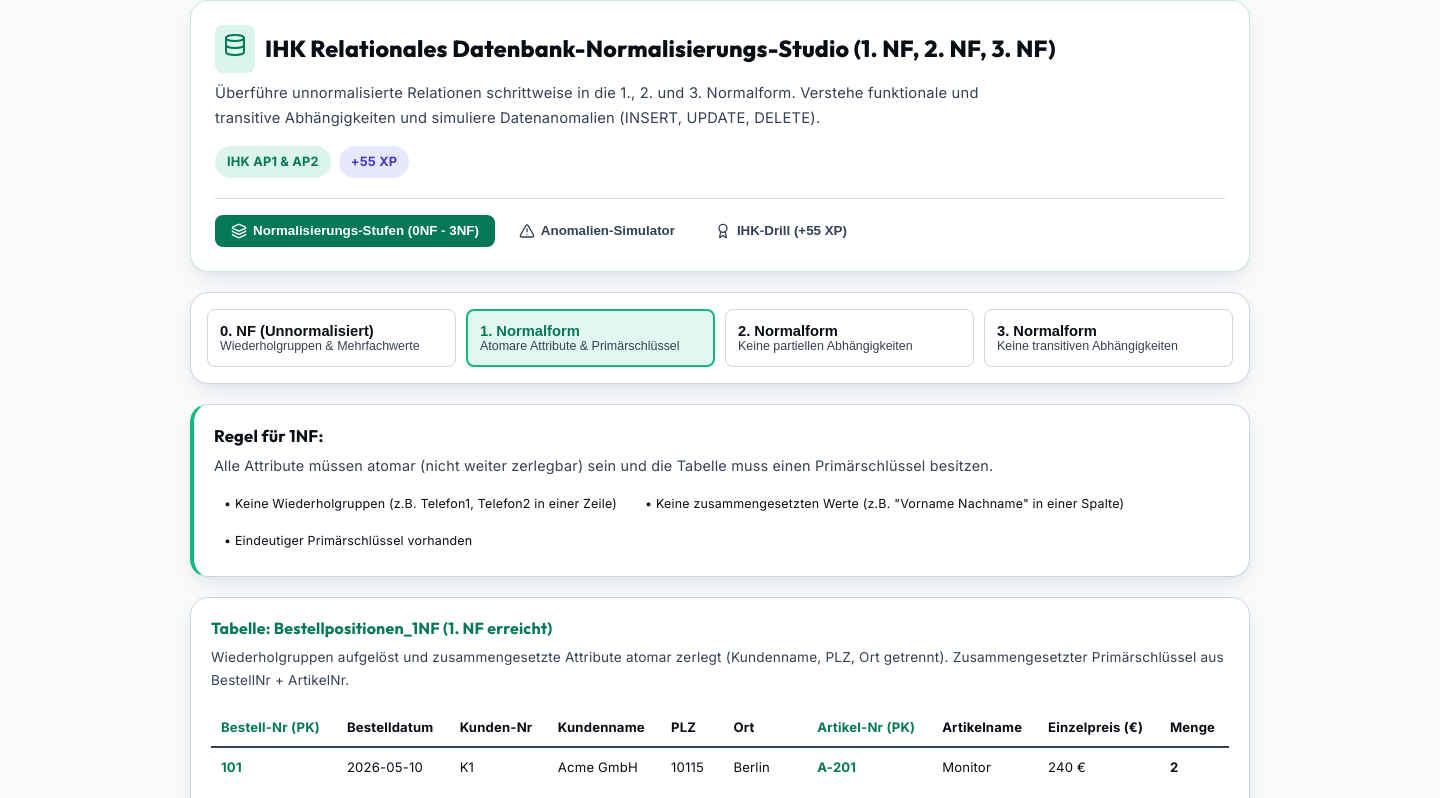
Test case: DatabaseNormalizationLab › wechselt zum Anomalien-Simulator
Click the button "Anomalien-Simulator" at (597, 231), box [503,215,691,247]
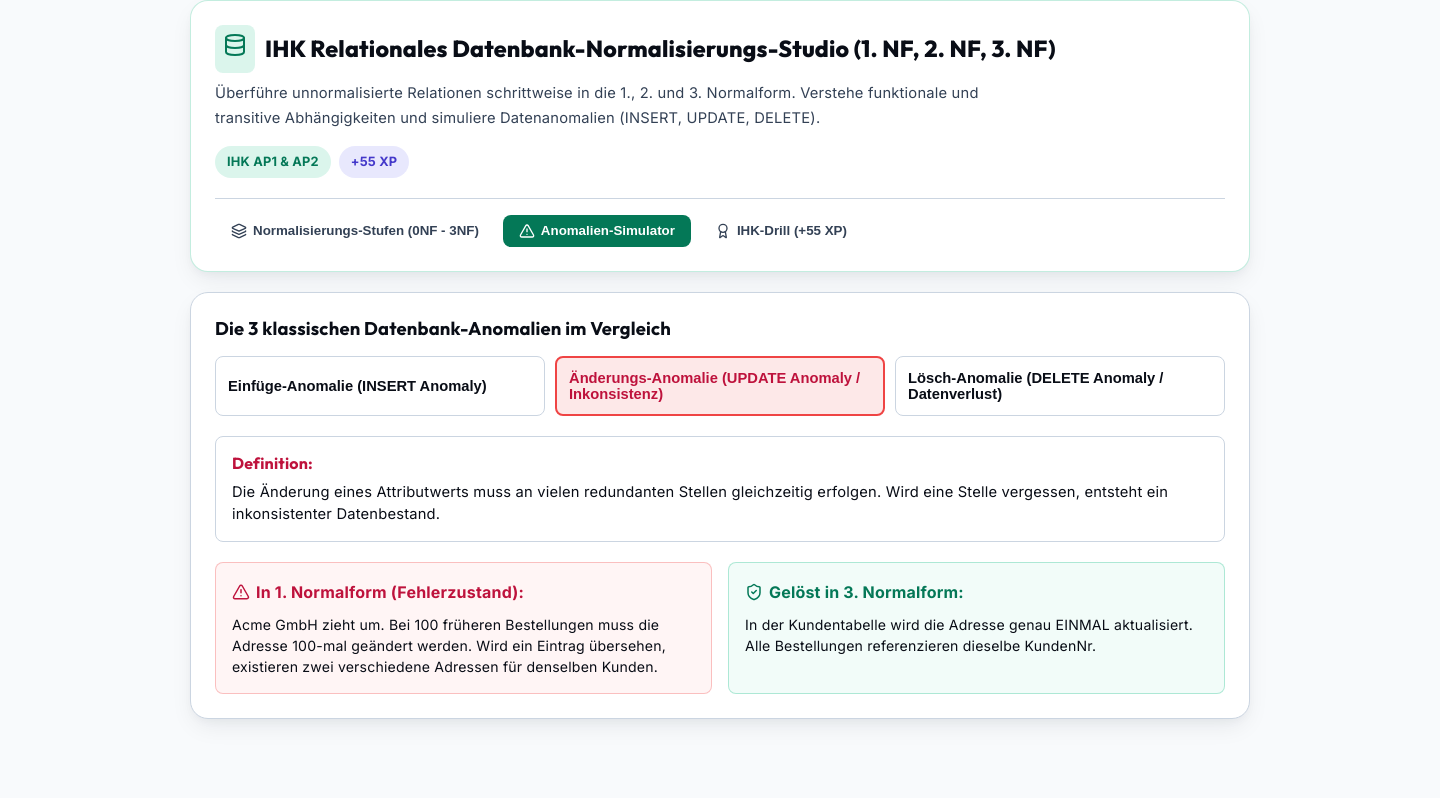
Now the heading "Die 3 klassischen Datenbank-Anomalien im Vergleich" is shown, box [215,317,671,340]
